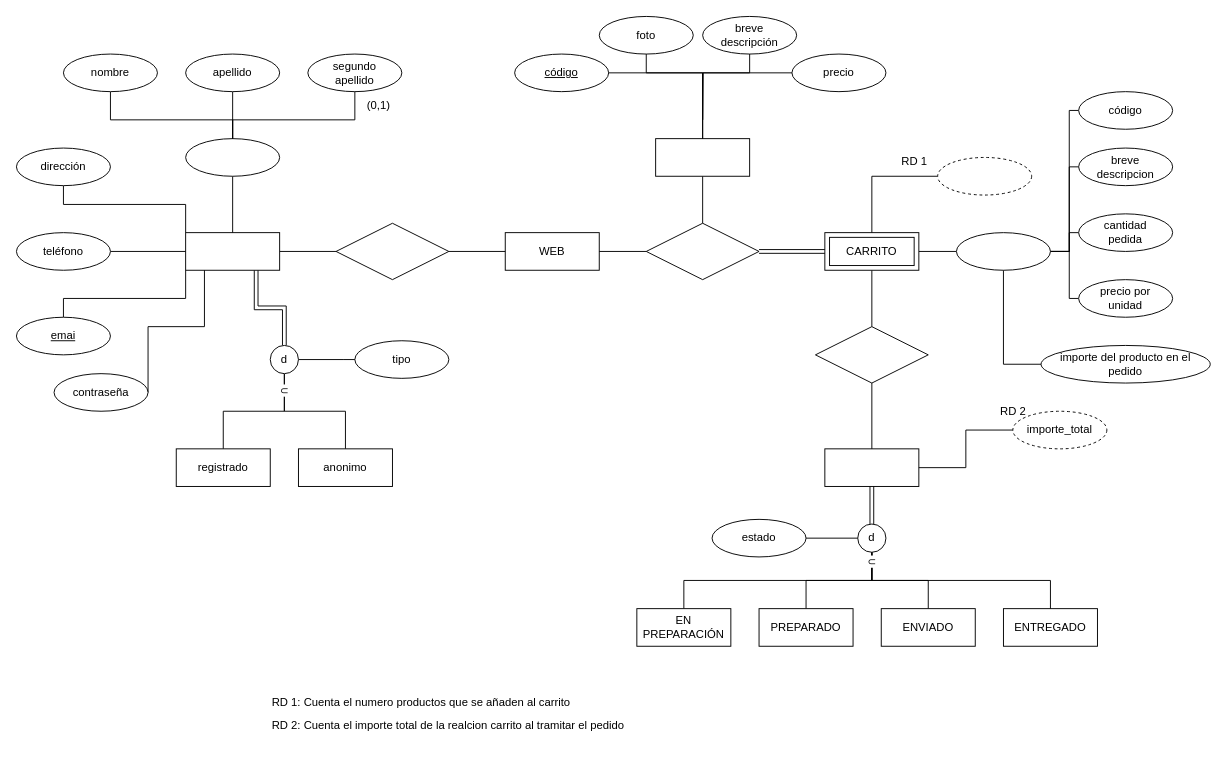
This 1227x757 diagram has some shape labels left out. Here are the shapes that lost their labels. From the top down, the centre of each, then its label:
At [232,157]: "nombre compuesto".
At [702,157]: "PRODUCTO".
At [984,176]: "numero productos".
At [232,251]: "USUARIO".
At [392,251]: "REGISTRARSE".
At [702,251]: "AÑADIR_AL".
At [1003,251]: "producto_carro".
At [871,354]: "TRAMITAR_EL".
At [871,467]: "PEDIDO".
